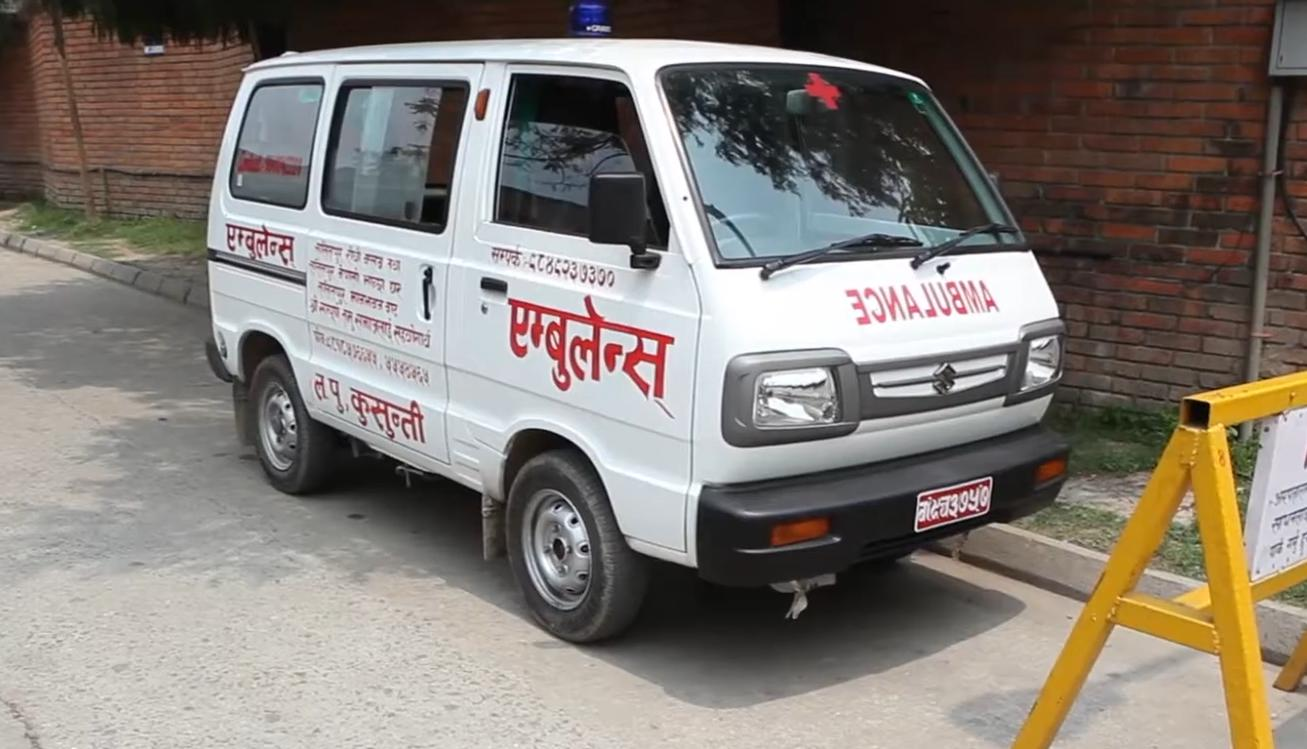ambulance: (190, 0, 1083, 657)
